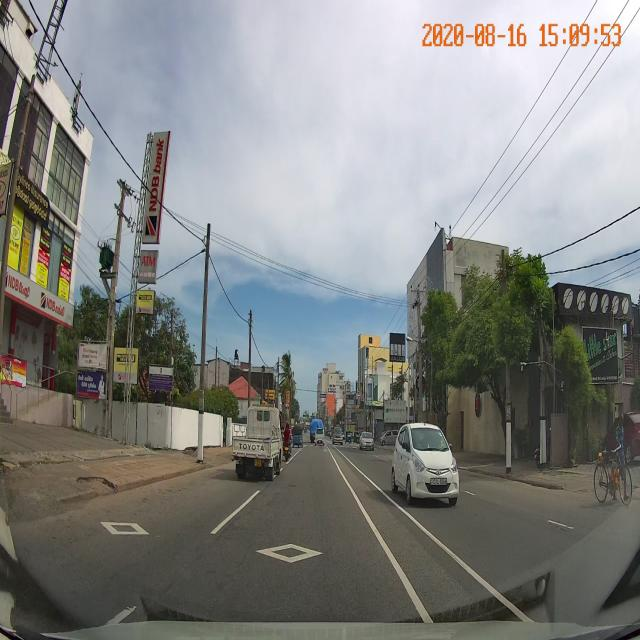diamond: (177, 522, 408, 578)
